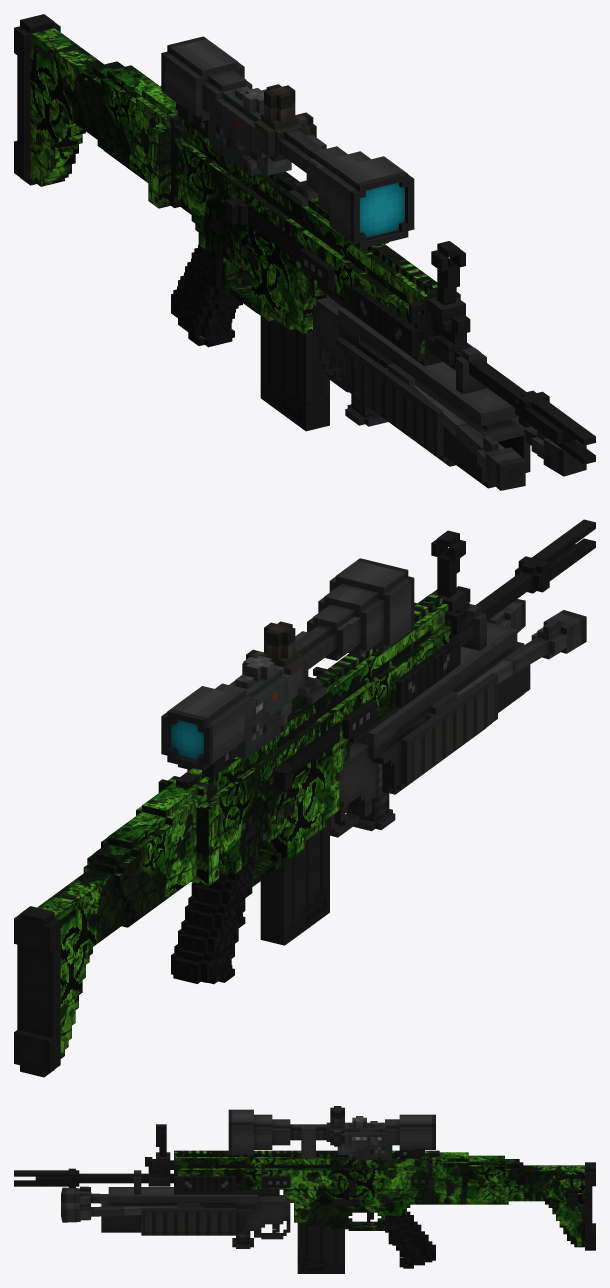
The model's file is RD_SCAR_H_ZOMBIE.glb.
3 renders of one model, top to bottom at view 1: azimuth 30°, elevation 25°; view 2: azimuth 150°, elevation 25°; view 3: azimuth 270°, elevation 25°, orthographic. The views are drawn at different scales.
Visible parts, largest first — view 1: FN_SCAR, SCOPE_SCHMIDT_BENDER, GP_M203, FN_SCAR_CLIP, SCOPE_TASCO, DIPOD2_LEG1, FN_SCAR_SCOPE, SCOPE_EOTECH, DIPOD2_LEG2, GRIP1; view 2: FN_SCAR, SCOPE_SCHMIDT_BENDER, GP_M203, FN_SCAR_CLIP, DIPOD2_LEG1, SCOPE_TASCO, FN_SCAR_SCOPE, SCOPE_EOTECH, GRIP1, DIPOD2_LEG2; view 3: FN_SCAR, GP_M203, SCOPE_SCHMIDT_BENDER, FN_SCAR_CLIP, SCOPE_TASCO, DIPOD2_LEG2, SCOPE_EOTECH, DIPOD2_LEG1, FN_SCAR_SCOPE, GRIP1.
Boxes of the visible parts, <box> form: FN_SCAR: <box>14,14,595,464</box>; SCOPE_SCHMIDT_BENDER: <box>161,36,414,248</box>; GP_M203: <box>313,297,530,488</box>; FN_SCAR_CLIP: <box>260,316,329,431</box>; SCOPE_TASCO: <box>209,86,273,175</box>; DIPOD2_LEG1: <box>412,385,525,490</box>; FN_SCAR_SCOPE: <box>178,103,465,305</box>; SCOPE_EOTECH: <box>209,110,291,175</box>; DIPOD2_LEG2: <box>511,416,586,476</box>; GRIP1: <box>345,394,387,426</box>; FN_SCAR: <box>14,519,595,1077</box>; SCOPE_SCHMIDT_BENDER: <box>161,558,414,770</box>; GP_M203: <box>330,604,530,837</box>; FN_SCAR_CLIP: <box>260,817,329,945</box>; DIPOD2_LEG1: <box>457,610,586,697</box>; SCOPE_TASCO: <box>229,655,297,750</box>; FN_SCAR_SCOPE: <box>178,530,465,777</box>; SCOPE_EOTECH: <box>233,700,291,758</box>; GRIP1: <box>353,762,395,831</box>; DIPOD2_LEG2: <box>487,599,525,632</box>; FN_SCAR: <box>14,1150,595,1268</box>; GP_M203: <box>101,1170,290,1239</box>; SCOPE_SCHMIDT_BENDER: <box>228,1106,435,1158</box>; FN_SCAR_CLIP: <box>297,1222,344,1273</box>; SCOPE_TASCO: <box>341,1116,391,1159</box>; DIPOD2_LEG2: <box>61,1202,177,1222</box>; SCOPE_EOTECH: <box>337,1137,392,1159</box>; DIPOD2_LEG1: <box>61,1186,108,1203</box>; FN_SCAR_SCOPE: <box>156,1124,424,1158</box>; GRIP1: <box>232,1231,253,1248</box>.
Size of the model in its own units: 0.1404 by 0.4823 by 1.57.
9 materials, 9 textured.
